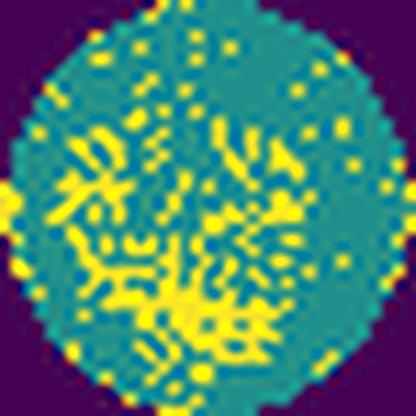Donut: (44, 93, 343, 376)
